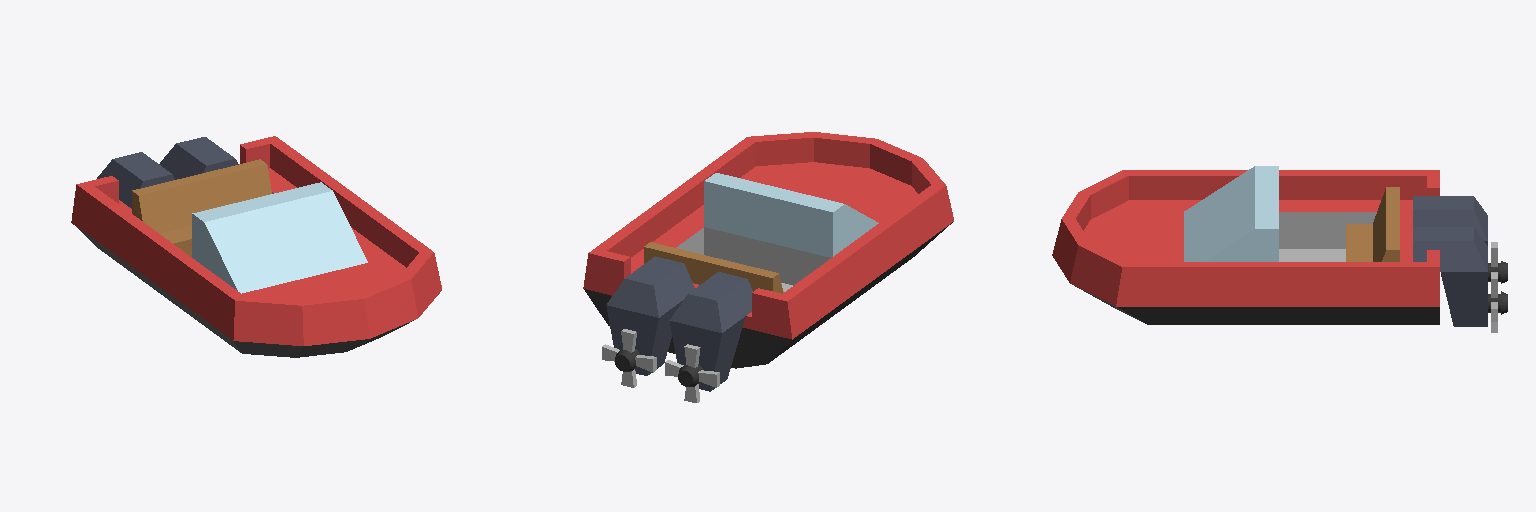
File: watercraftPack_012.obj
3 renders of one model, left to right at view 1: azimuth 30°, elevation 25°; view 2: azimuth 150°, elevation 25°; view 3: azimuth 270°, elevation 25°, orthographic.
Parts seen in each view (by area): view 1: Mesh5 Group1 Model, Mesh1 Group2 Group1 Model, Mesh2 Group3 Group1 Model; view 2: Mesh5 Group1 Model, Mesh2 Group3 Group1 Model, Mesh1 Group2 Group1 Model, Mesh3 Group4 Group1 Model, Mesh4 Group5 Group1 Model; view 3: Mesh5 Group1 Model, Mesh1 Group2 Group1 Model, Mesh2 Group3 Group1 Model.
Boxes of the visible parts, x1,y1,x2,y2 form: Mesh5 Group1 Model: [71, 136, 441, 357]; Mesh1 Group2 Group1 Model: [159, 137, 238, 179]; Mesh2 Group3 Group1 Model: [97, 152, 174, 208]; Mesh5 Group1 Model: [583, 132, 953, 368]; Mesh2 Group3 Group1 Model: [669, 272, 752, 391]; Mesh1 Group2 Group1 Model: [606, 256, 694, 375]; Mesh3 Group4 Group1 Model: [665, 344, 719, 402]; Mesh4 Group5 Group1 Model: [602, 329, 656, 387]; Mesh5 Group1 Model: [1052, 166, 1439, 324]; Mesh1 Group2 Group1 Model: [1413, 227, 1507, 326]; Mesh2 Group3 Group1 Model: [1413, 196, 1507, 283].
Size of the model in its own units: 1.78 by 0.9571 by 3.37.